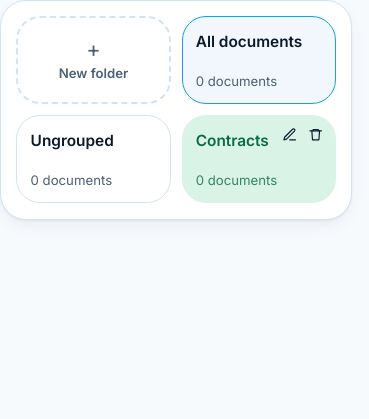
FolderGrid: delete › shows an inline confirm box on the delete icon, without deleting anything yet
Click the button named "Delete Contracts". click: (316, 135)
box: x1=304 y1=123 x2=328 y2=147
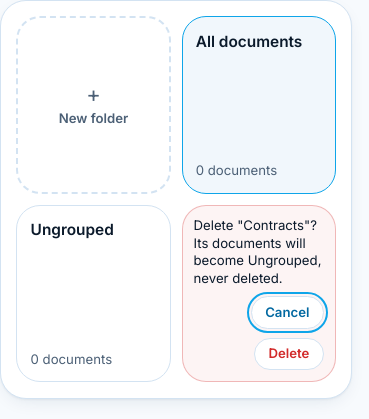
Now the message is shown, box x1=182 y1=205 x2=336 y2=382
